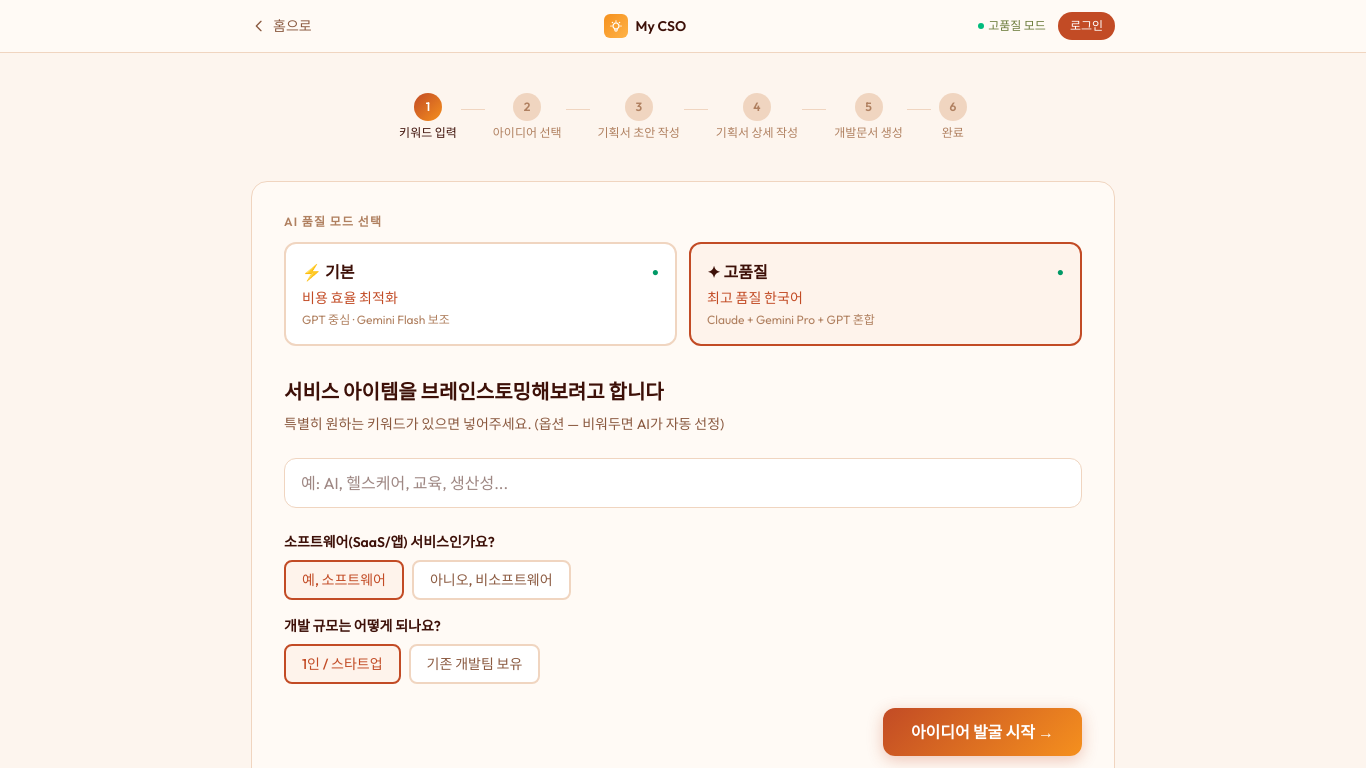
Workflow Step: Select Ideas › can toggle multiple idea selections
The image size is (1366, 768).
Type "AI" into the field with placeholder "예: AI, 헬스케어, 교육, 생산성...".
click(683, 483); type("AI")  # box [284, 458, 1082, 508]
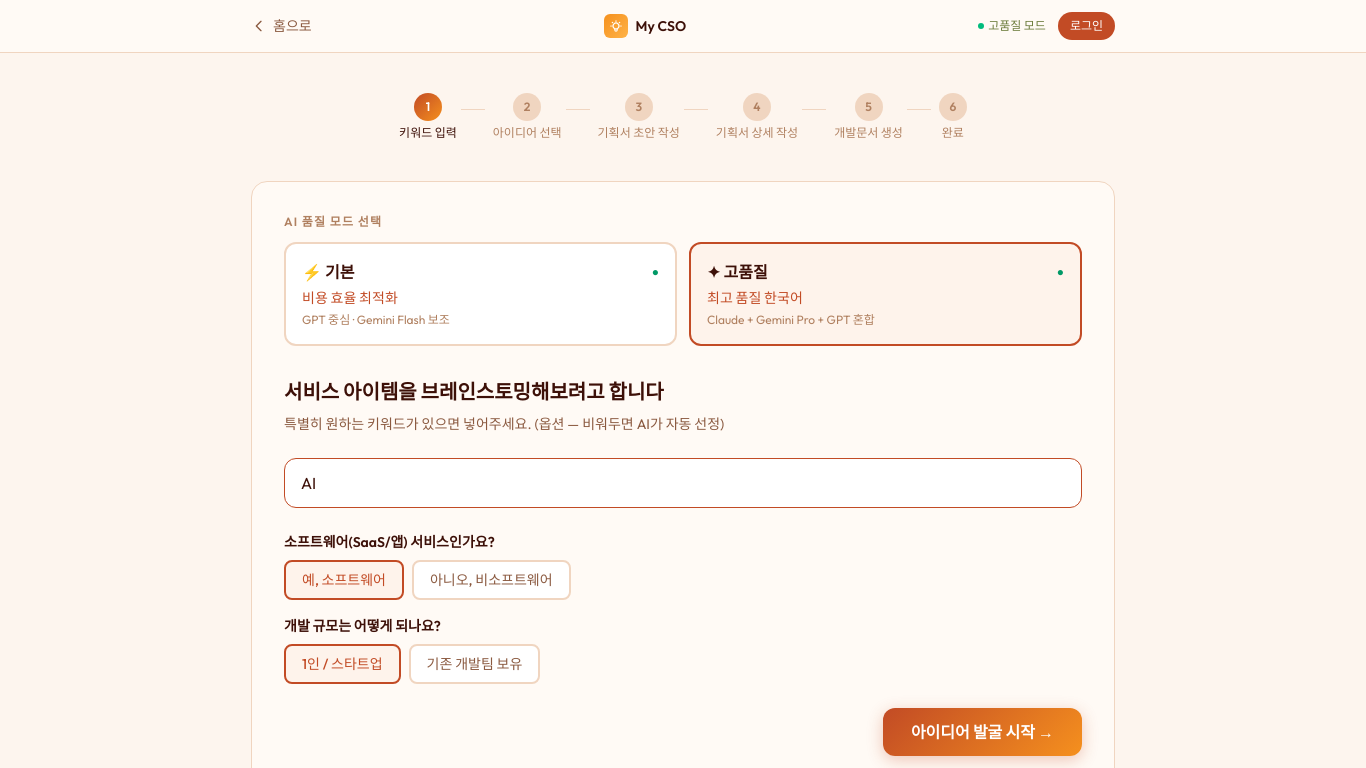
Click the button "아이디어 발굴 시작 →".
click(982, 732)  # box [883, 708, 1082, 756]
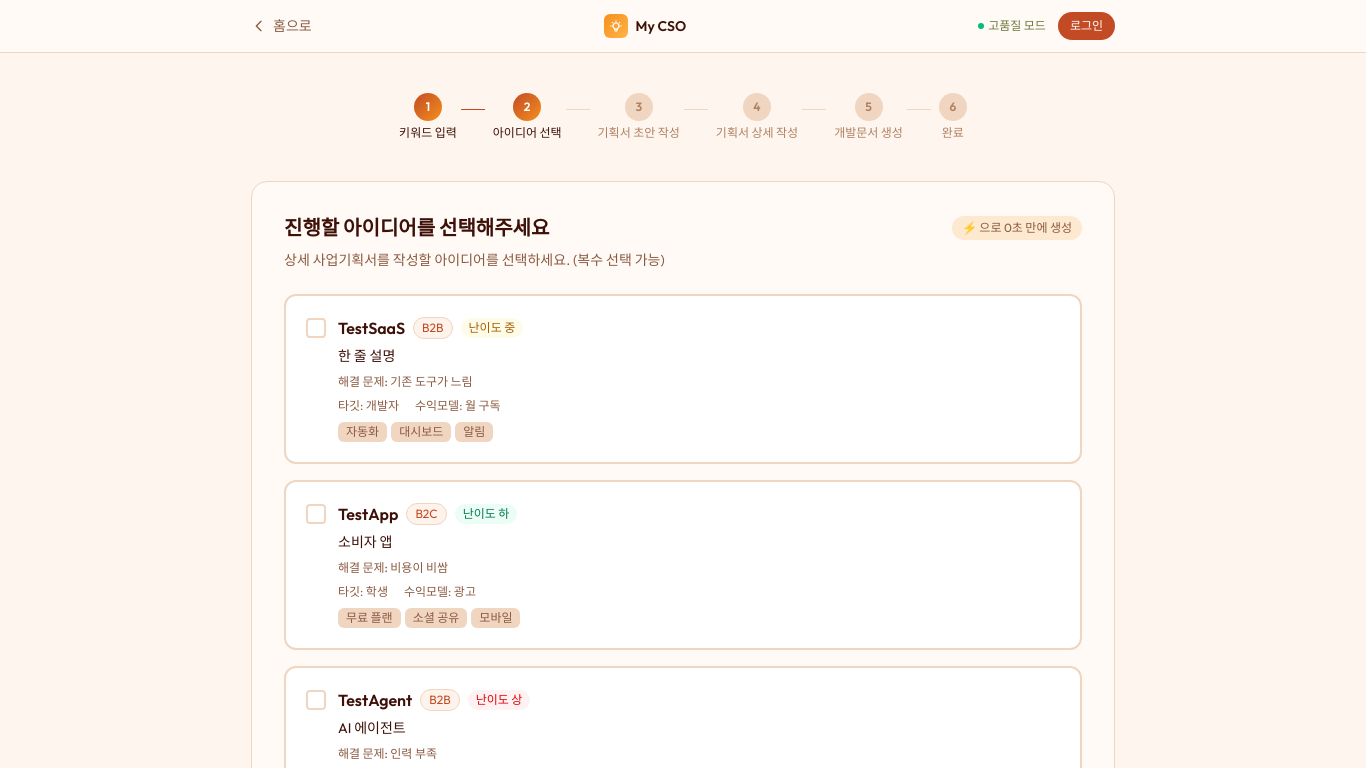
expect the heading "TestSaaS" is shown: met, box [338, 316, 405, 340]
Click the text "TestSaaS".
click(683, 379)  # box [284, 294, 1082, 464]
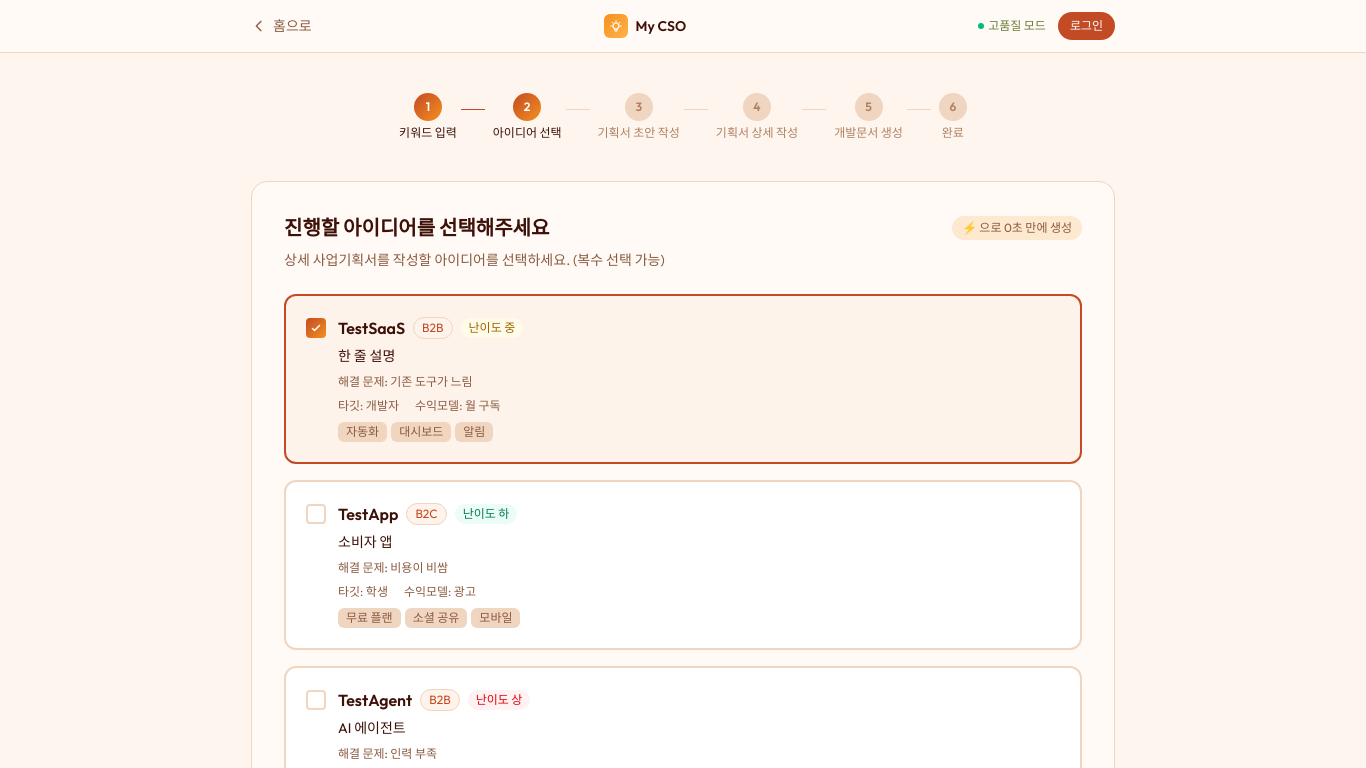
Click the text "TestApp".
click(683, 565)  # box [284, 480, 1082, 650]
(page scrolled)
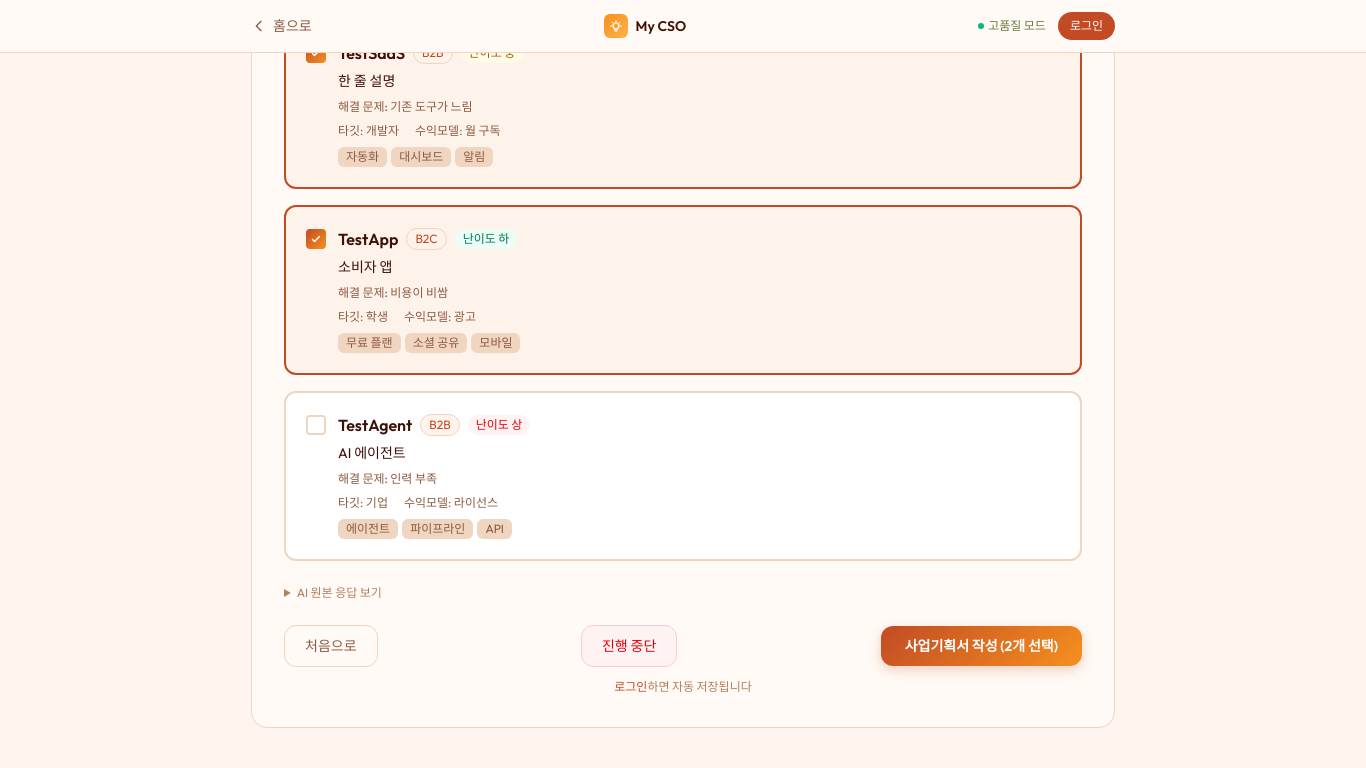
expect the button "사업기획서 작성 (2개 선택)" is shown: met, box [881, 626, 1082, 666]
